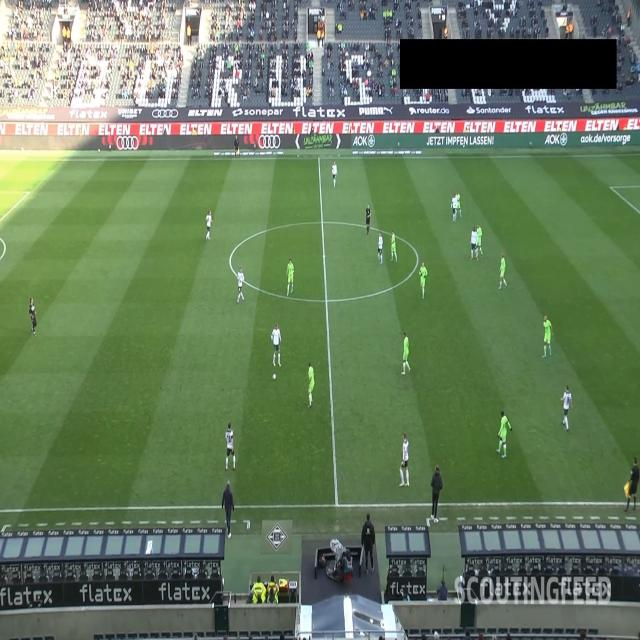ball: (272, 373, 276, 380)
